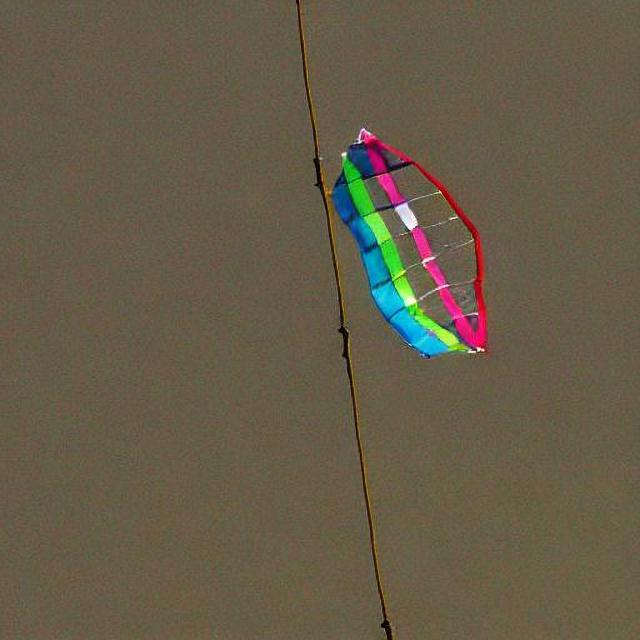floating object: (331, 126, 490, 350)
